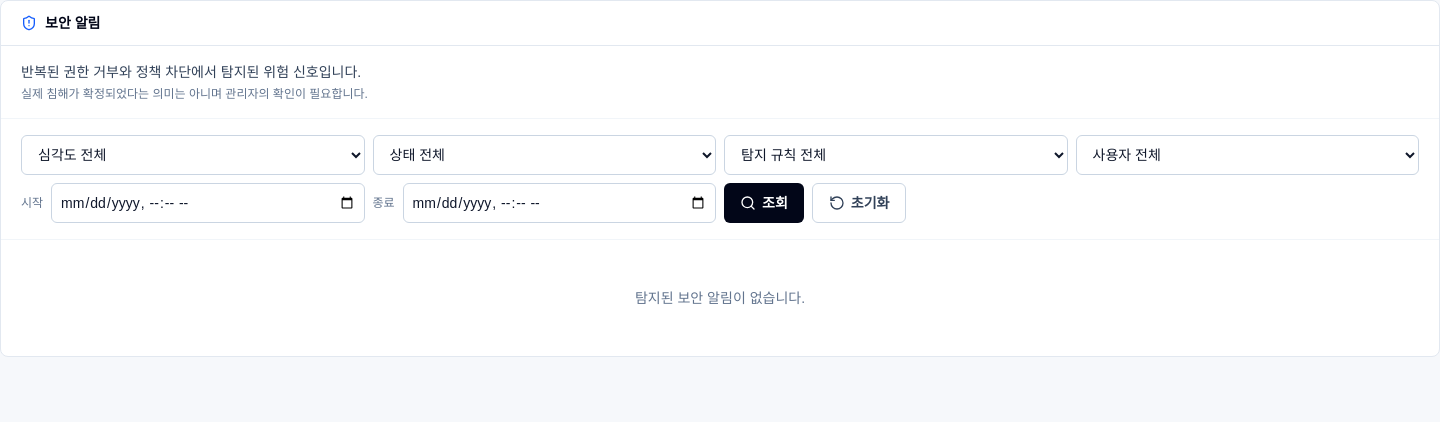
it: SecurityAlertsTab › 필터 입력은 조회 전까지 적용하지 않고 조회 시 1페이지부터 요청한다
The image size is (1440, 422).
Expected: the text "탐지된 보안 알림이 없습니다." is shown, [635,290,805,306]
Select "높음" in the dropdown named "심각도" at (193, 155), box [21,135,364,175]
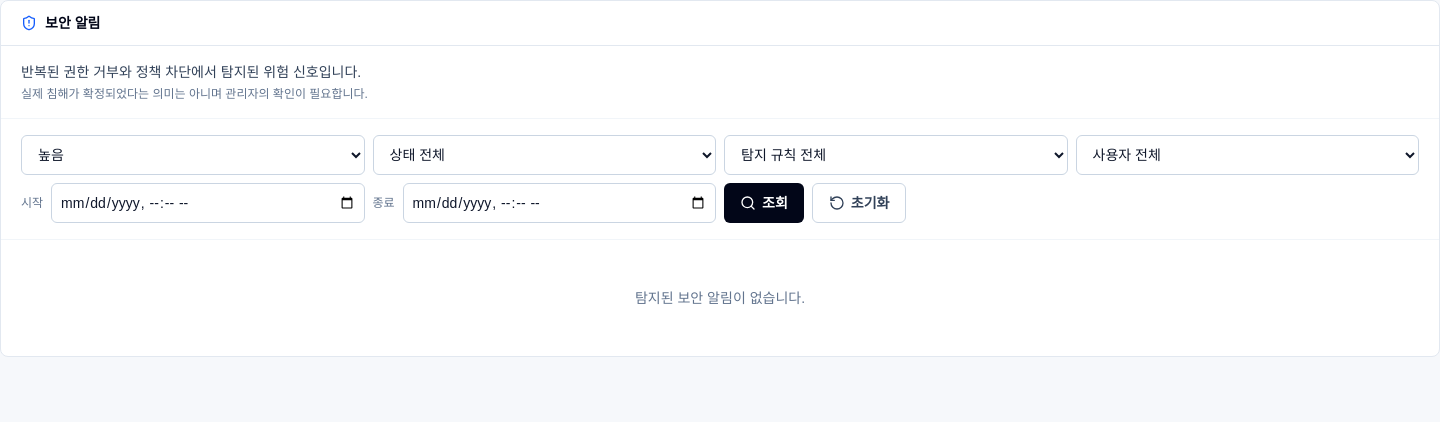
Select "확인됨" in the dropdown named "상태" at (544, 155), box [372,135,716,175]
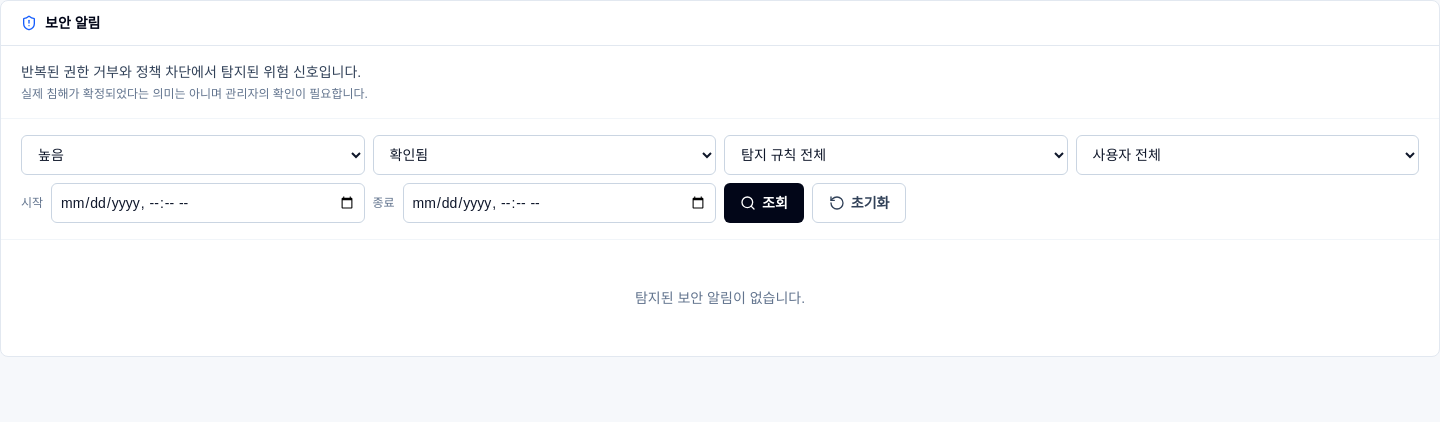
Select "반복된 정책 차단" in the dropdown named "탐지 규칙" at (896, 155), box [724,135,1068,175]
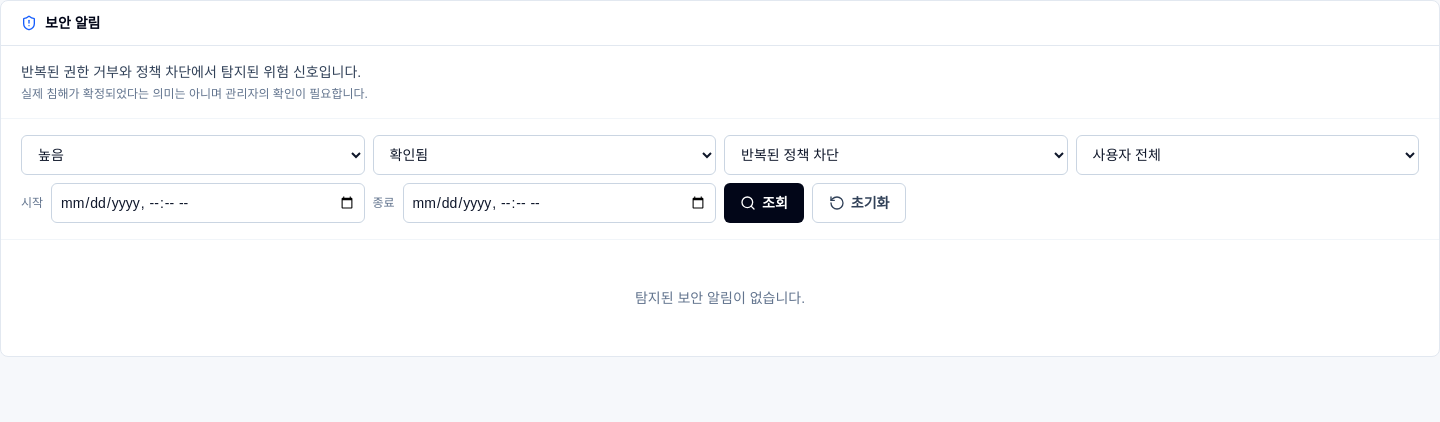
Select "김사용자" in the dropdown named "사용자" at (1247, 155), box [1076,135,1419,175]
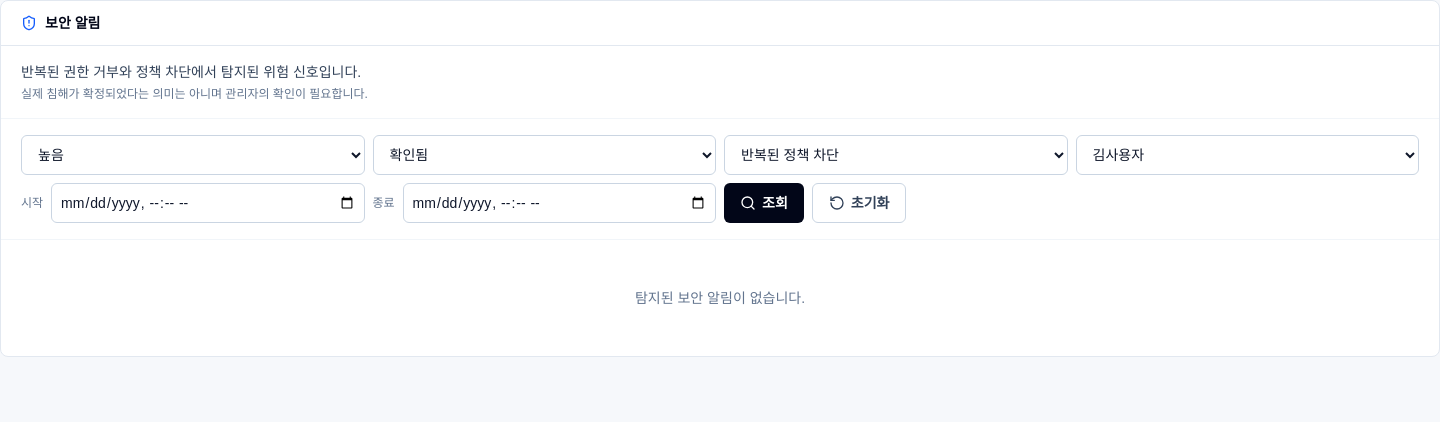
Click the button "조회" at (764, 203), box [724,183,804,223]
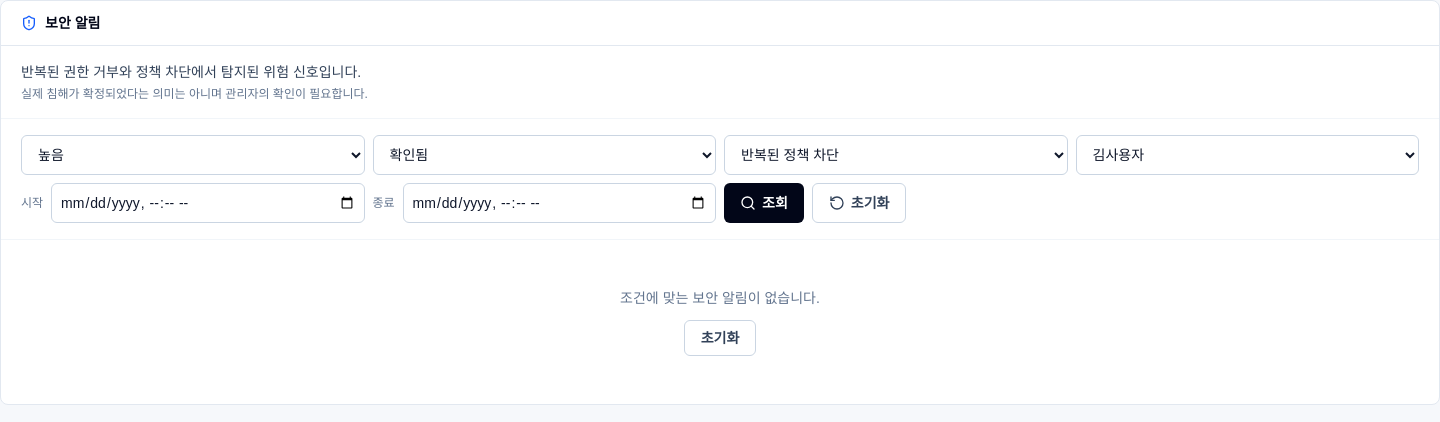
Result: the text "조건에 맞는 보안 알림이 없습니다." is shown at [620,290,820,306]
